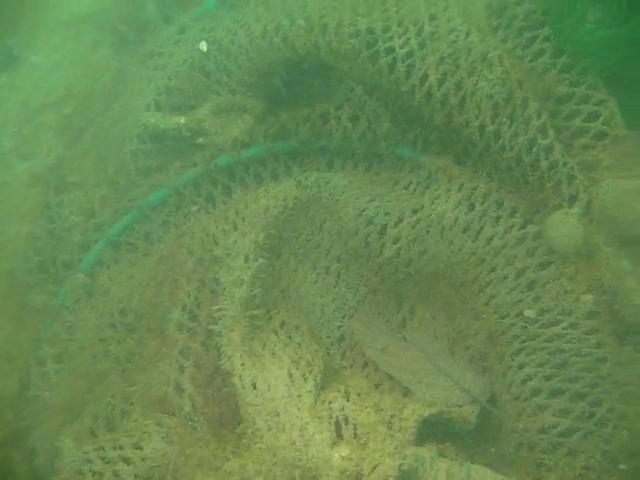fish net: (22, 138, 640, 480), (24, 0, 631, 210)
